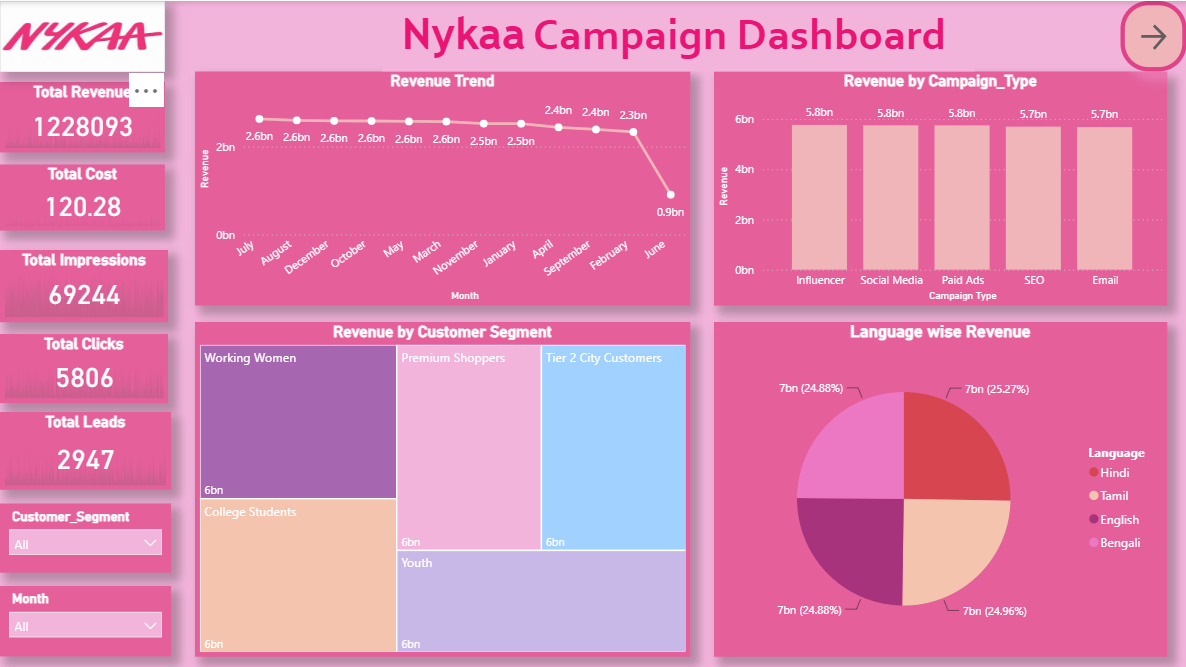

Layout of this report page (visuals, bound fields, positions):
{"tool":"powerbi","page":{"name":"Page 1","canvas":[1280,720],"ordinal":0},"visuals":[{"type":"lineChart","title":"Revenue Trend","fields":{"Y":["Sum(nykaa_campaign_data.Revenue)"],"Category":["nykaa_campaign_data.Month"]},"box":[210.5,76.1,534.3,252.6],"z":0},{"type":"clusteredColumnChart","title":"Revenue by Campaign_Type","fields":{"Category":["nykaa_campaign_data.Campaign_Type"],"Y":["Sum(nykaa_campaign_data.Revenue)"]},"box":[770.8,76.1,489,252.6],"z":1000},{"type":"kpi","title":"Total Revenue","fields":{"Indicator":["nykaa_campaign_data.Total Revenue"],"TrendLine":["nykaa_campaign_data.Campaign_ID"]},"box":[0,87.4,178.1,76.1],"z":2000},{"type":"kpi","title":"Total Cost","fields":{"Indicator":["nykaa_campaign_data.Total Cost"],"TrendLine":["nykaa_campaign_data.Campaign_ID"]},"box":[0,176.5,178.1,71.2],"z":3000},{"type":"kpi","title":"Total Impressions","fields":{"Indicator":["nykaa_campaign_data.Total Impressions"],"TrendLine":["nykaa_campaign_data.Campaign_ID"]},"box":[0,268.8,181.4,77.7],"z":4000},{"type":"textbox","box":[412.9,0,639.6,76.1],"z":5000},{"type":"image","box":[0,0,178.1,76.1],"z":6000},{"type":"kpi","title":"Total Clicks","fields":{"Indicator":["nykaa_campaign_data.Total Clicks"],"TrendLine":["nykaa_campaign_data.Campaign_ID"]},"box":[0,359.5,181.4,74.5],"z":7000},{"type":"kpi","title":"Total Leads","fields":{"Indicator":["nykaa_campaign_data.Total Leads"],"TrendLine":["nykaa_campaign_data.Campaign_ID"]},"box":[0,443.7,184.6,84.2],"z":8000},{"type":"treemap","title":"Revenue by Customer Segment","fields":{"Values":["Sum(nykaa_campaign_data.Revenue)"],"Group":["nykaa_campaign_data.Customer_Segment"]},"box":[210.5,346.5,534.3,361.1],"z":9000},{"type":"pieChart","title":"Language wise Revenue","fields":{"Category":["nykaa_campaign_data.Language"],"Y":["Sum(nykaa_campaign_data.Revenue)"]},"box":[770.8,346.5,489,361.1],"z":10000},{"type":"actionButton","box":[1209.6,0,71.2,76.1],"z":11000},{"type":"slicer","fields":{"Values":["nykaa_campaign_data.Customer_Segment"]},"box":[0,542.4,184.6,74.5],"z":12000},{"type":"slicer","fields":{"Values":["nykaa_campaign_data.Month"]},"box":[0,631.5,184.6,76.1],"z":13000}]}

Visuals, with their boxes in screenshot pixels (x1, y1, x2, y2), scaled from the page's 1280x720 canvas onto the 1186x667 screenshot:
"Revenue Trend" lineChart: locate(195, 70, 690, 305)
"Revenue by Campaign_Type" clusteredColumnChart: locate(714, 70, 1167, 305)
"Total Revenue" kpi: locate(0, 81, 165, 151)
"Total Cost" kpi: locate(0, 164, 165, 229)
"Total Impressions" kpi: locate(0, 249, 168, 321)
textbox: locate(383, 0, 975, 70)
image: locate(0, 0, 165, 70)
"Total Clicks" kpi: locate(0, 333, 168, 402)
"Total Leads" kpi: locate(0, 411, 171, 489)
"Revenue by Customer Segment" treemap: locate(195, 321, 690, 656)
"Language wise Revenue" pieChart: locate(714, 321, 1167, 656)
actionButton: locate(1121, 0, 1185, 70)
slicer - nykaa_campaign_data.Customer_Segment: locate(0, 502, 171, 571)
slicer - nykaa_campaign_data.Month: locate(0, 585, 171, 656)
